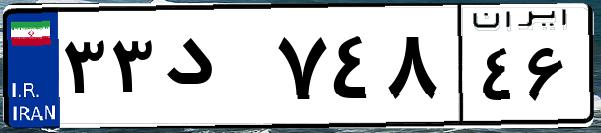3: (57, 26, 110, 100), (110, 28, 158, 98)
4: (330, 28, 385, 110), (475, 38, 525, 113)
6: (525, 38, 570, 115)
7: (270, 28, 330, 110)
8: (385, 28, 445, 110)
د: (158, 20, 270, 120)
